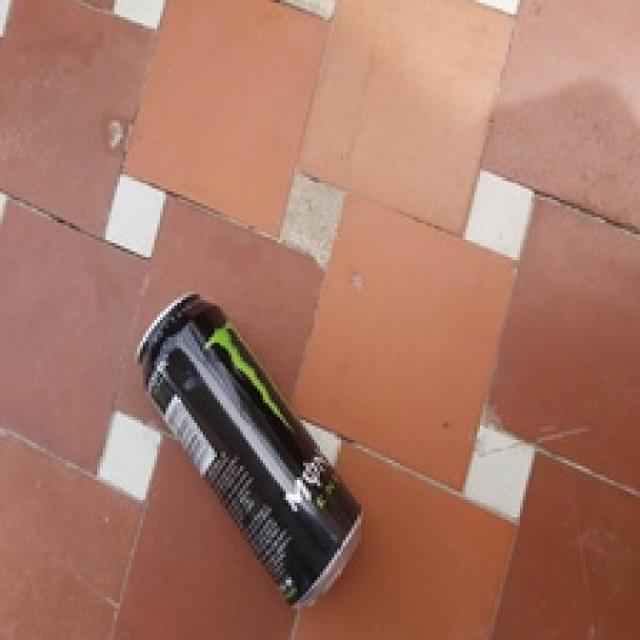recyclable: (131, 292, 368, 606)
